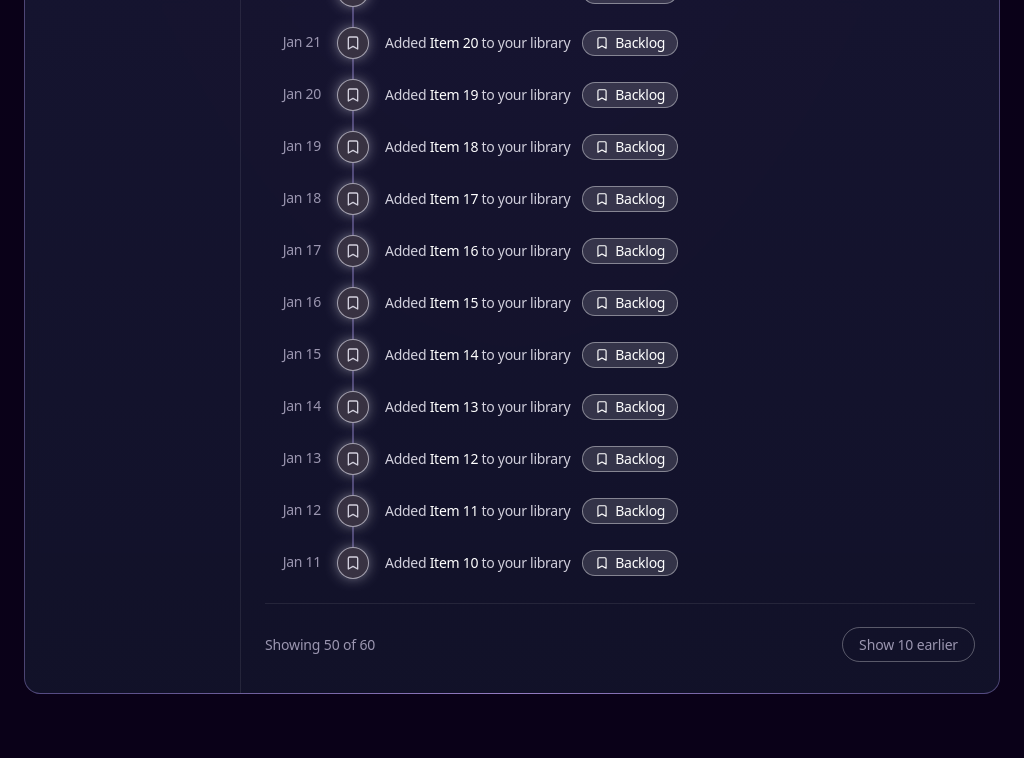
Scenario: TimelinePage › shows the newest 50 at first, and more on asking
The image size is (1024, 758).
(page scrolled)
expect the message reads "Showing 50 of 60": met, box [265, 634, 375, 655]
Click the button "Show 10 earlier".
click(909, 645)  # box [842, 627, 975, 662]
(page scrolled)
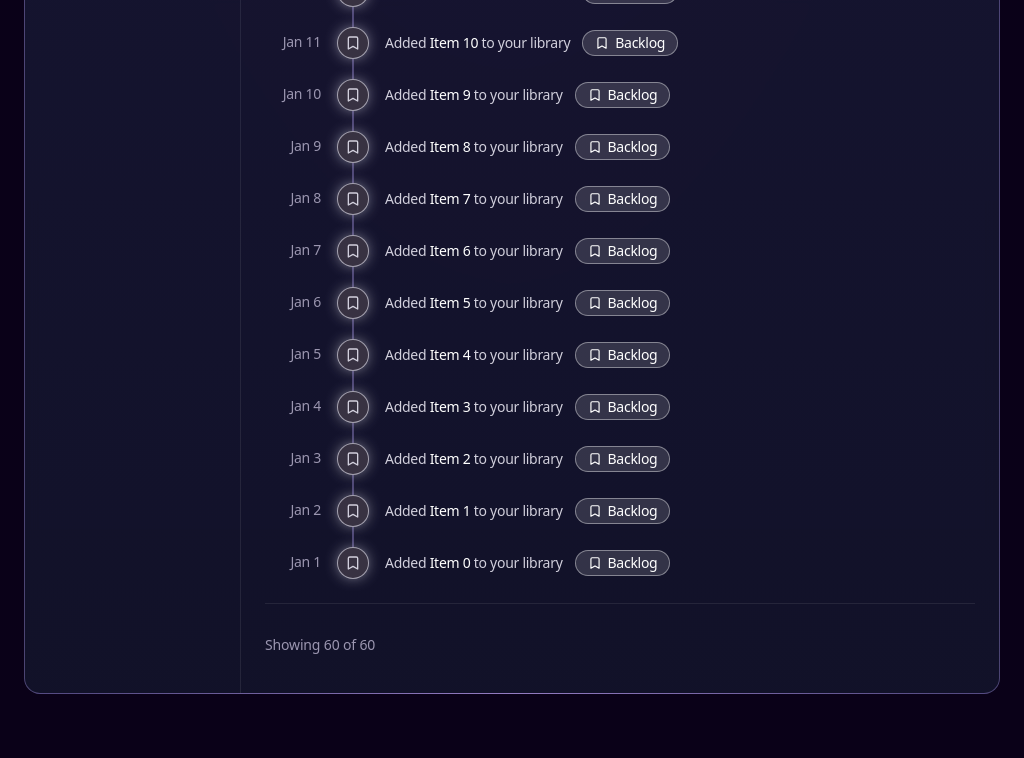
expect the list item "Jan 1 Added Item 0 to your library Backlog" is shown: met, box [290, 547, 670, 579]
expect the button "Show 10 earlier" is gone: met
